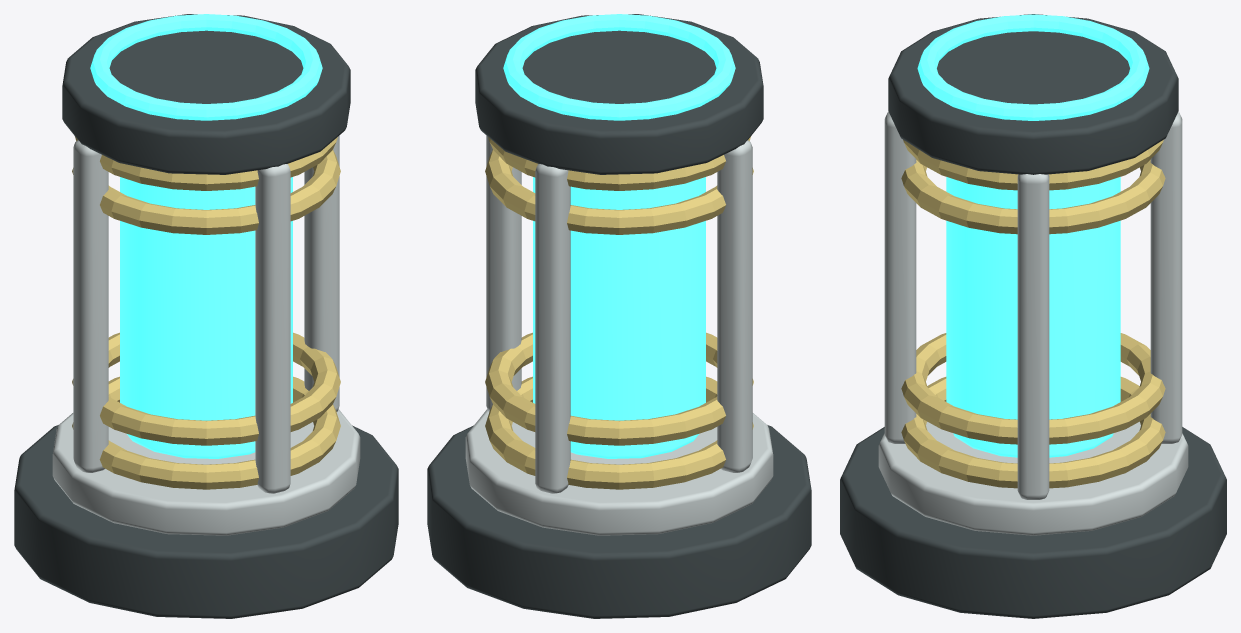
The model's file is core.glb.
The picture shows the model from 3 angles, left to right: view 1: azimuth 30°, elevation 25°; view 2: azimuth 150°, elevation 25°; view 3: azimuth 270°, elevation 25°; orthographic projection.
Visible parts, largest first — view 1: containment base, top locking cap, plasma chamber, lower coupling, containment rib.003, containment rib.002, top status, flux coil.001, flux coil, containment rib, flux coil.002, flux coil.003; view 2: containment base, top locking cap, plasma chamber, lower coupling, containment rib.001, containment rib.002, top status, flux coil.001, flux coil, containment rib, flux coil.002, flux coil.003; view 3: containment base, plasma chamber, top locking cap, lower coupling, containment rib, containment rib.001, containment rib.003, top status, flux coil.001, flux coil, flux coil.002, flux coil.003.
Part boxes in pixels (x1,y1,x2,y2): containment base: [14, 425, 398, 618]; top locking cap: [62, 14, 350, 174]; plasma chamber: [120, 177, 292, 458]; lower coupling: [52, 409, 360, 535]; containment rib.003: [255, 164, 290, 493]; containment rib.002: [73, 140, 108, 472]; top status: [90, 14, 322, 120]; flux coil.001: [72, 332, 340, 445]; flux coil: [72, 376, 340, 489]; containment rib: [304, 135, 339, 411]; flux coil.002: [72, 150, 340, 234]; flux coil.003: [75, 136, 337, 190]; containment base: [427, 425, 811, 618]; top locking cap: [475, 14, 763, 174]; plasma chamber: [533, 177, 705, 458]; lower coupling: [465, 409, 773, 535]; containment rib.001: [535, 164, 570, 493]; containment rib.002: [717, 140, 752, 472]; top status: [503, 14, 735, 120]; flux coil.001: [485, 332, 753, 445]; flux coil: [485, 376, 753, 489]; containment rib: [486, 135, 521, 411]; flux coil.002: [485, 150, 753, 234]; flux coil.003: [488, 136, 750, 190]; containment base: [840, 427, 1226, 618]; plasma chamber: [946, 177, 1120, 457]; top locking cap: [888, 14, 1178, 174]; lower coupling: [878, 421, 1188, 535]; containment rib: [1017, 174, 1049, 499]; containment rib.001: [1150, 112, 1182, 443]; containment rib.003: [884, 112, 916, 443]; top status: [917, 14, 1149, 120]; flux coil.001: [901, 333, 1165, 444]; flux coil: [901, 377, 1165, 488]; flux coil.002: [901, 160, 1165, 234]; flux coil.003: [903, 139, 1163, 190].
Bounding box in the file's own units: 1.6 × 2.19 × 1.6.
